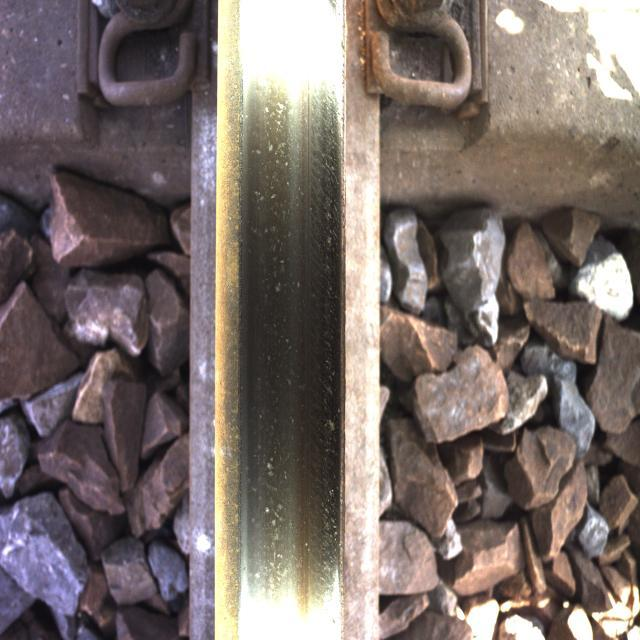normal: (242, 18, 332, 608)
